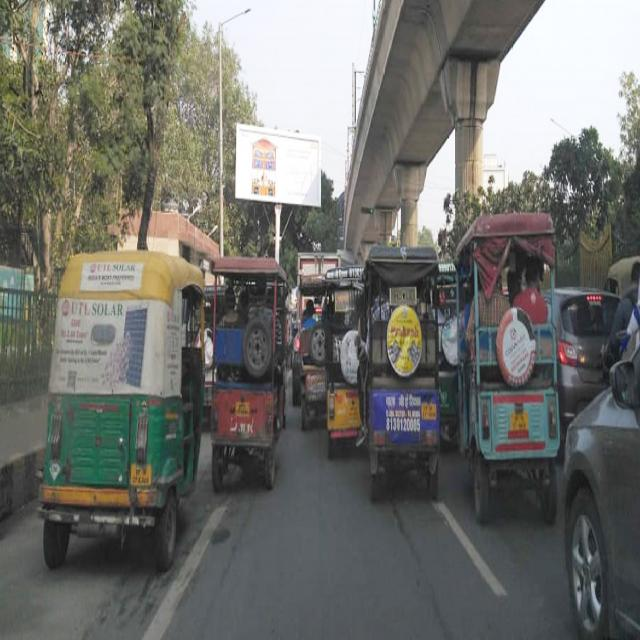autorikshaw: (44, 244, 206, 564), (362, 249, 446, 491), (208, 258, 286, 482), (323, 270, 369, 462)
